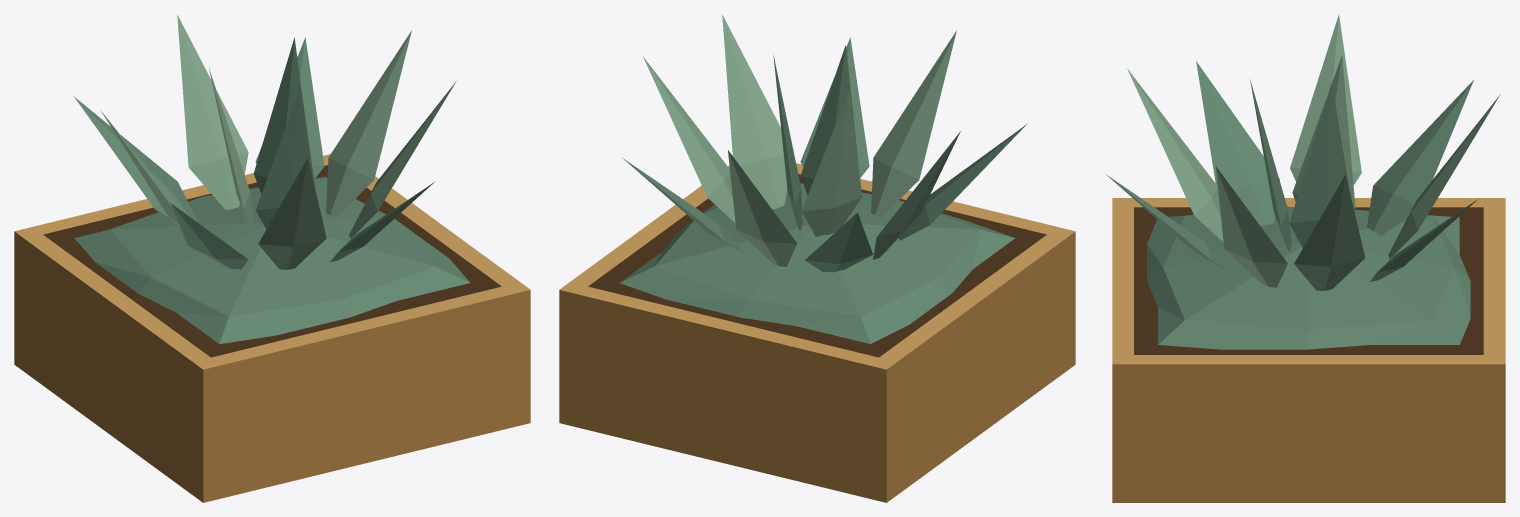
Rendered from item_produce_agave_a.obj.
3 renders of one model, left to right at view 1: azimuth 30°, elevation 25°; view 2: azimuth 150°, elevation 25°; view 3: azimuth 270°, elevation 25°, orthographic. The views are drawn at different scales.
Bounding box in the file's own units: 0.5724 × 0.5692 × 0.5838.
